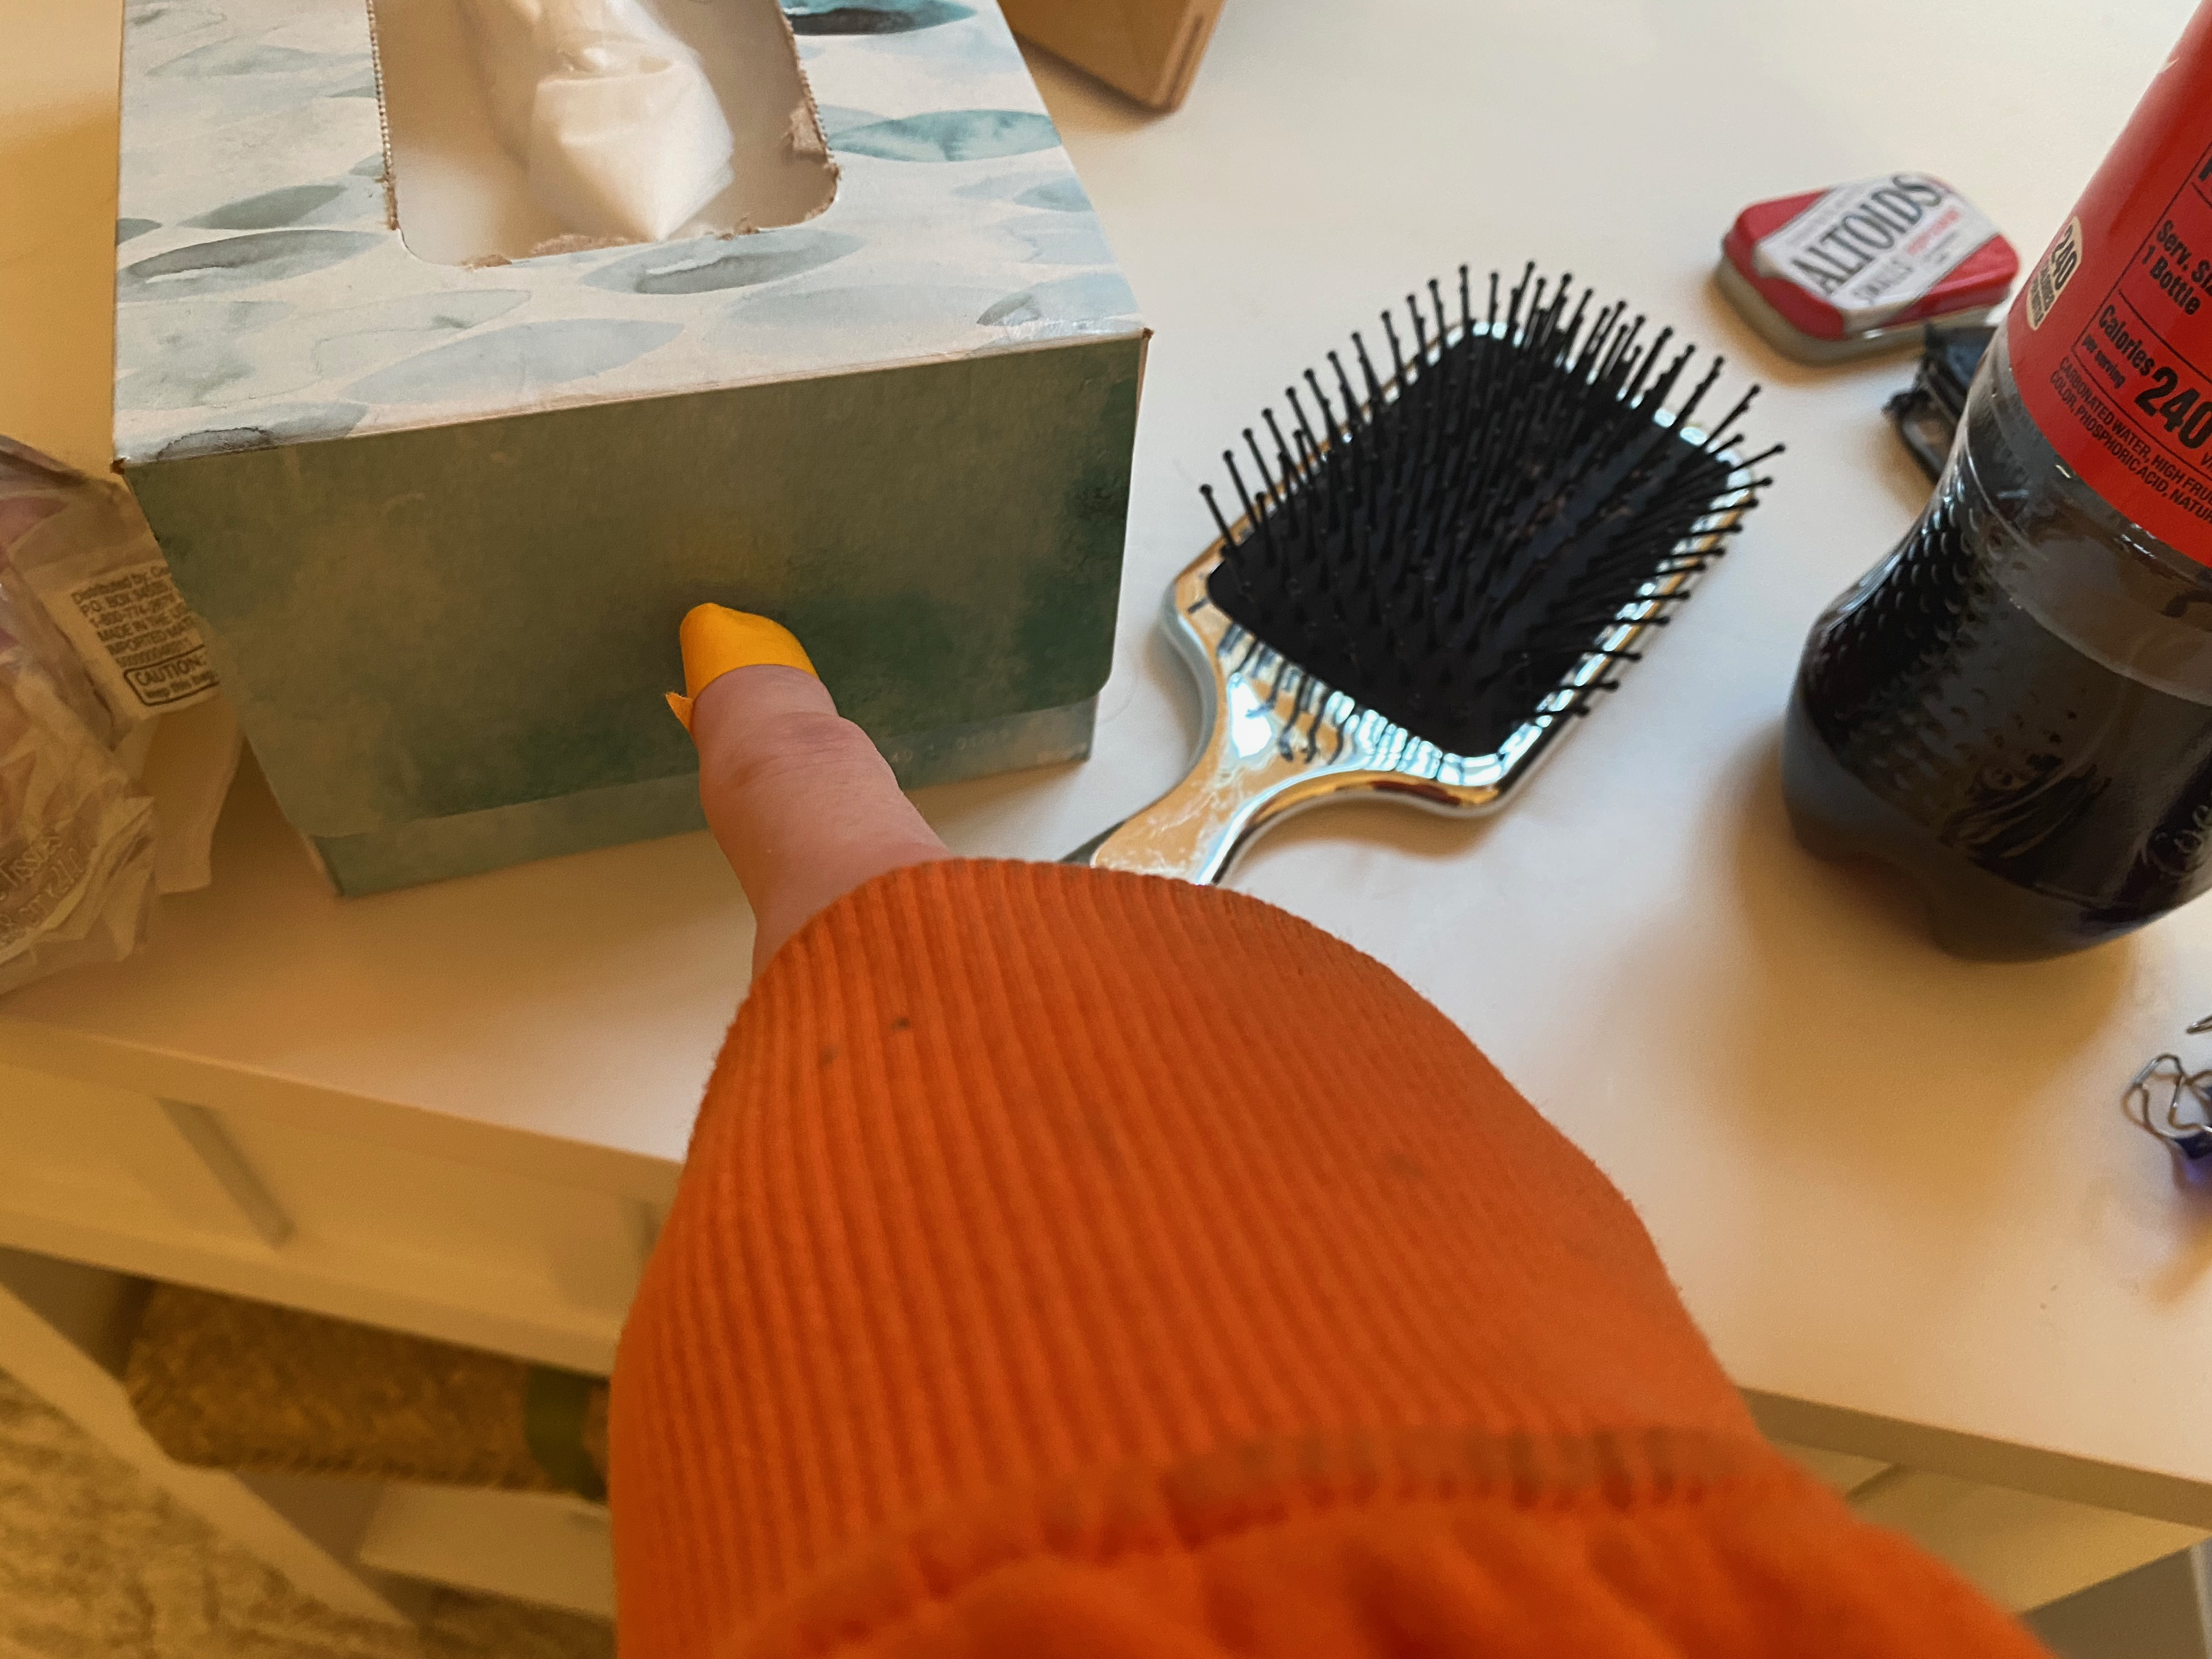fingertip: (603, 582, 867, 725)
